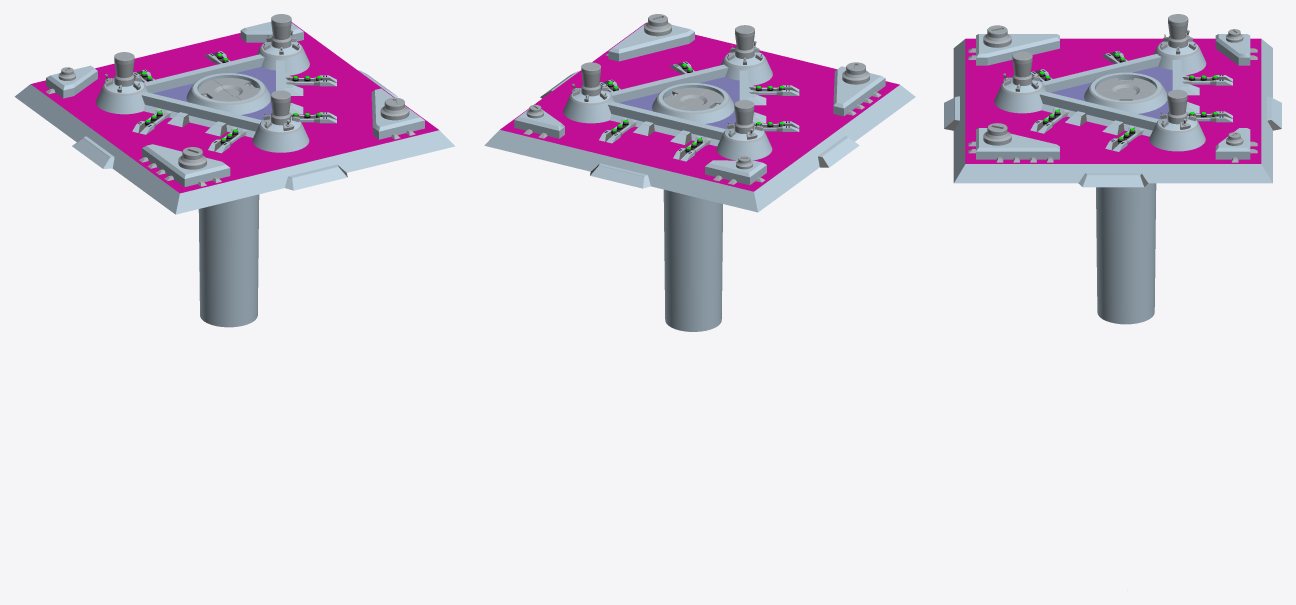
The model's file is Maaker6.fbx.
3 renders of one model, left to right at view 1: azimuth 30°, elevation 25°; view 2: azimuth 150°, elevation 25°; view 3: azimuth 270°, elevation 25°, orthographic. The views are drawn at different scales.
Visible parts, largest first — view 1: foundation_12, hole_base, boots, base, _pillar3, _pillar1, _pillar2, deets, door; view 2: foundation_12, hole_base, boots, base, _pillar1, _pillar2, deets, _pillar3, door; view 3: foundation_12, hole_base, boots, base, _pillar2, deets, _pillar3, _pillar1, door (×2), railstock6, railstock3.
Part boxes in pixels (x1=…): foundation_12: x1=14, y1=22, x2=455, y2=214; hole_base: x1=186, y1=73, x2=270, y2=327; boots: x1=46, y1=21, x2=424, y2=190; base: x1=141, y1=54, x2=289, y2=137; _pillar3: x1=252, y1=90, x2=309, y2=152; _pillar1: x1=96, y1=52, x2=148, y2=114; _pillar2: x1=256, y1=14, x2=309, y2=75; deets: x1=46, y1=67, x2=415, y2=186; door: x1=214, y1=78, x2=259, y2=100; foundation_12: x1=484, y1=22, x2=915, y2=212; hole_base: x1=652, y1=83, x2=734, y2=331; boots: x1=514, y1=22, x2=885, y2=188; base: x1=608, y1=64, x2=752, y2=146; _pillar1: x1=716, y1=100, x2=772, y2=160; _pillar2: x1=563, y1=62, x2=614, y2=123; deets: x1=523, y1=14, x2=881, y2=184; _pillar3: x1=721, y1=25, x2=772, y2=85; door: x1=663, y1=87, x2=708, y2=109; foundation_12: x1=953, y1=38, x2=1272, y2=183; hole_base: x1=1084, y1=72, x2=1167, y2=324; boots: x1=944, y1=34, x2=1281, y2=187; base: x1=1039, y1=54, x2=1185, y2=136; _pillar2: x1=1149, y1=89, x2=1205, y2=151; deets: x1=968, y1=25, x2=1257, y2=162; _pillar3: x1=994, y1=51, x2=1046, y2=113; _pillar1: x1=1153, y1=14, x2=1206, y2=74; door (×2): x1=1095, y1=78, x2=1156, y2=100; railstock6: x1=1182, y1=75, x2=1232, y2=85; railstock3: x1=1105, y1=126, x2=1144, y2=151.
Size of the model in its own units: 517 by 897 by 517.
